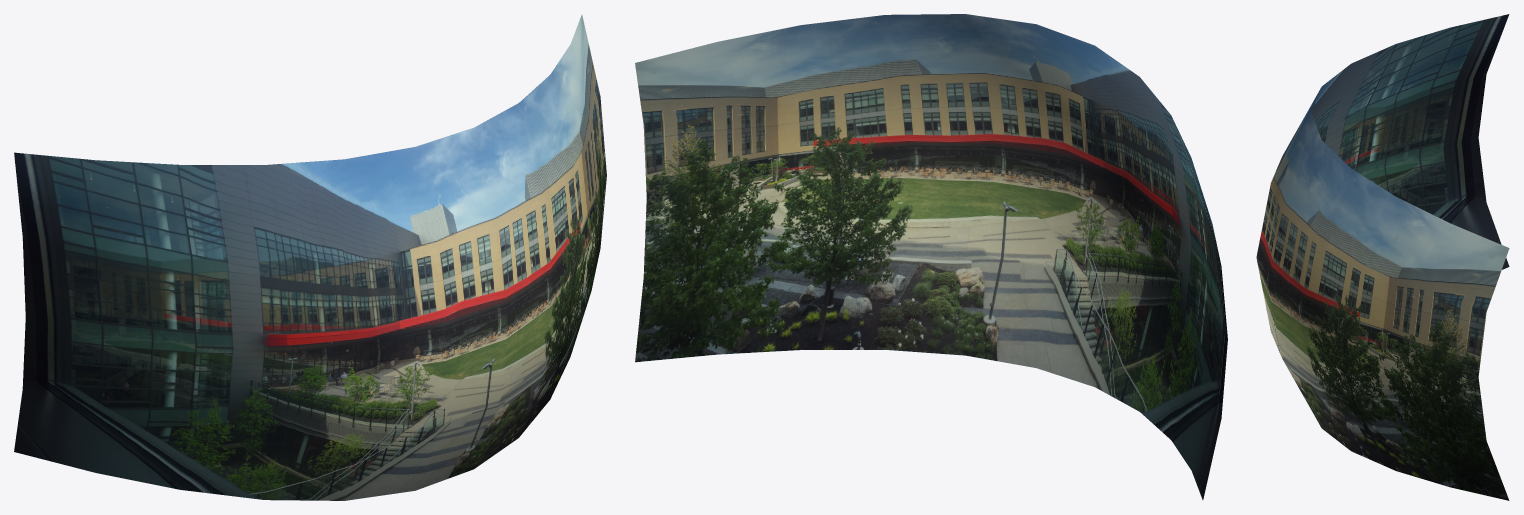
The model's file is background.glb.
The picture shows the model from 3 angles, left to right: view 1: azimuth 30°, elevation 25°; view 2: azimuth 150°, elevation 25°; view 3: azimuth 270°, elevation 25°; orthographic projection. The views are drawn at different scales.
Parts seen in each view (by area): view 1: Plane; view 2: Plane; view 3: Plane.
Part boxes in pixels (<box>): Plane: <box>14,15,606,500</box>; Plane: <box>635,14,1227,499</box>; Plane: <box>1256,14,1509,500</box>.
Size of the model in its own units: 19.71 by 11.15 by 8.8.
1 material, 1 textured.
